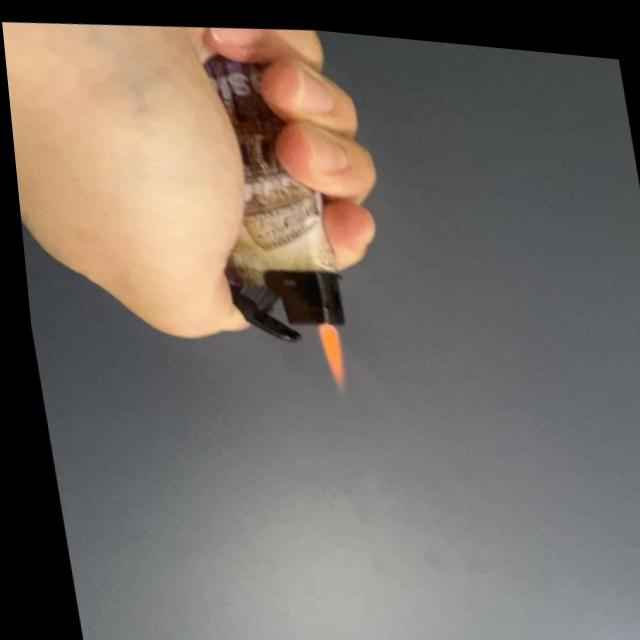Fire: (308, 317, 346, 389)
